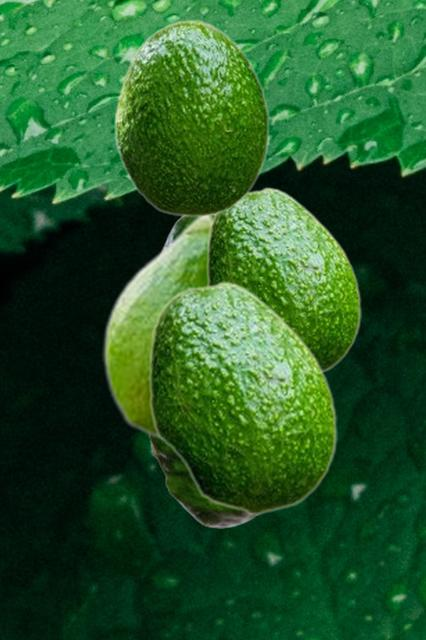avocado: (147, 280, 336, 514), (146, 217, 261, 527), (114, 19, 269, 216), (205, 186, 360, 374), (102, 217, 211, 441)
